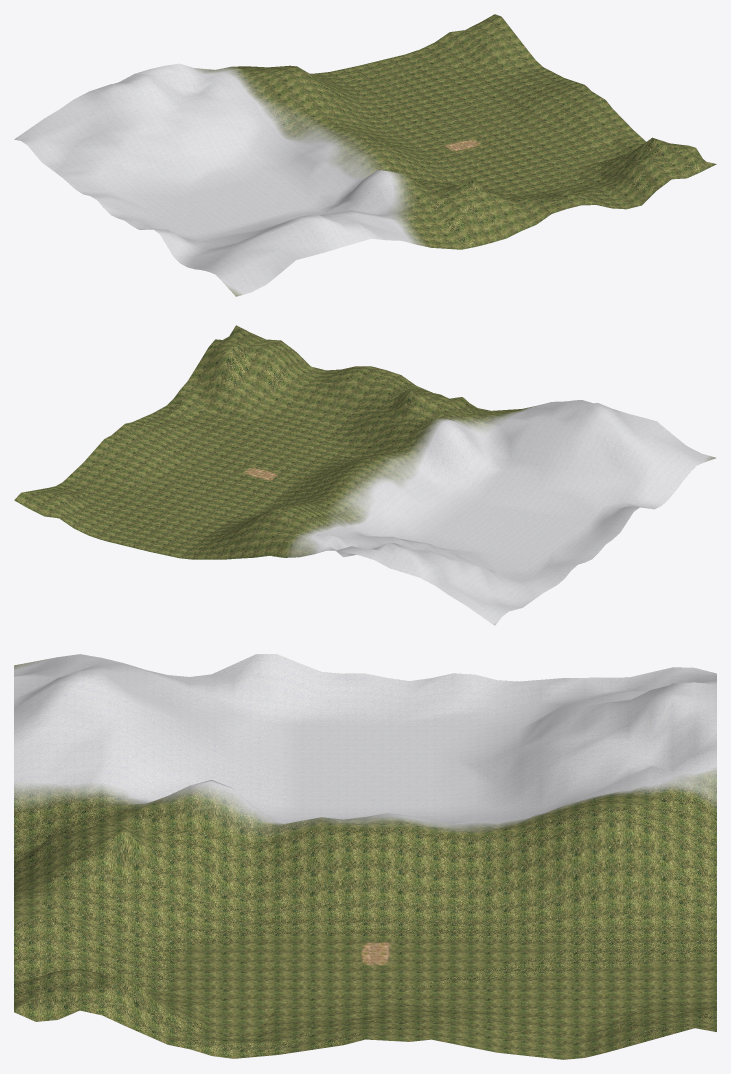
3 views of the same model, one above another, from view 1: azimuth 30°, elevation 25°; view 2: azimuth 150°, elevation 25°; view 3: azimuth 270°, elevation 25° (orthographic). The views are drawn at different scales.
Visible parts, largest first — view 1: Mesh; view 2: Mesh; view 3: Mesh.
Boxes of the visible parts, x1,y1,x2,y2 form: Mesh: [14, 14, 716, 296]; Mesh: [14, 325, 715, 625]; Mesh: [14, 654, 716, 1059].
Size of the model in its own units: 1000 by 111 by 800.
1 material, 1 textured.
